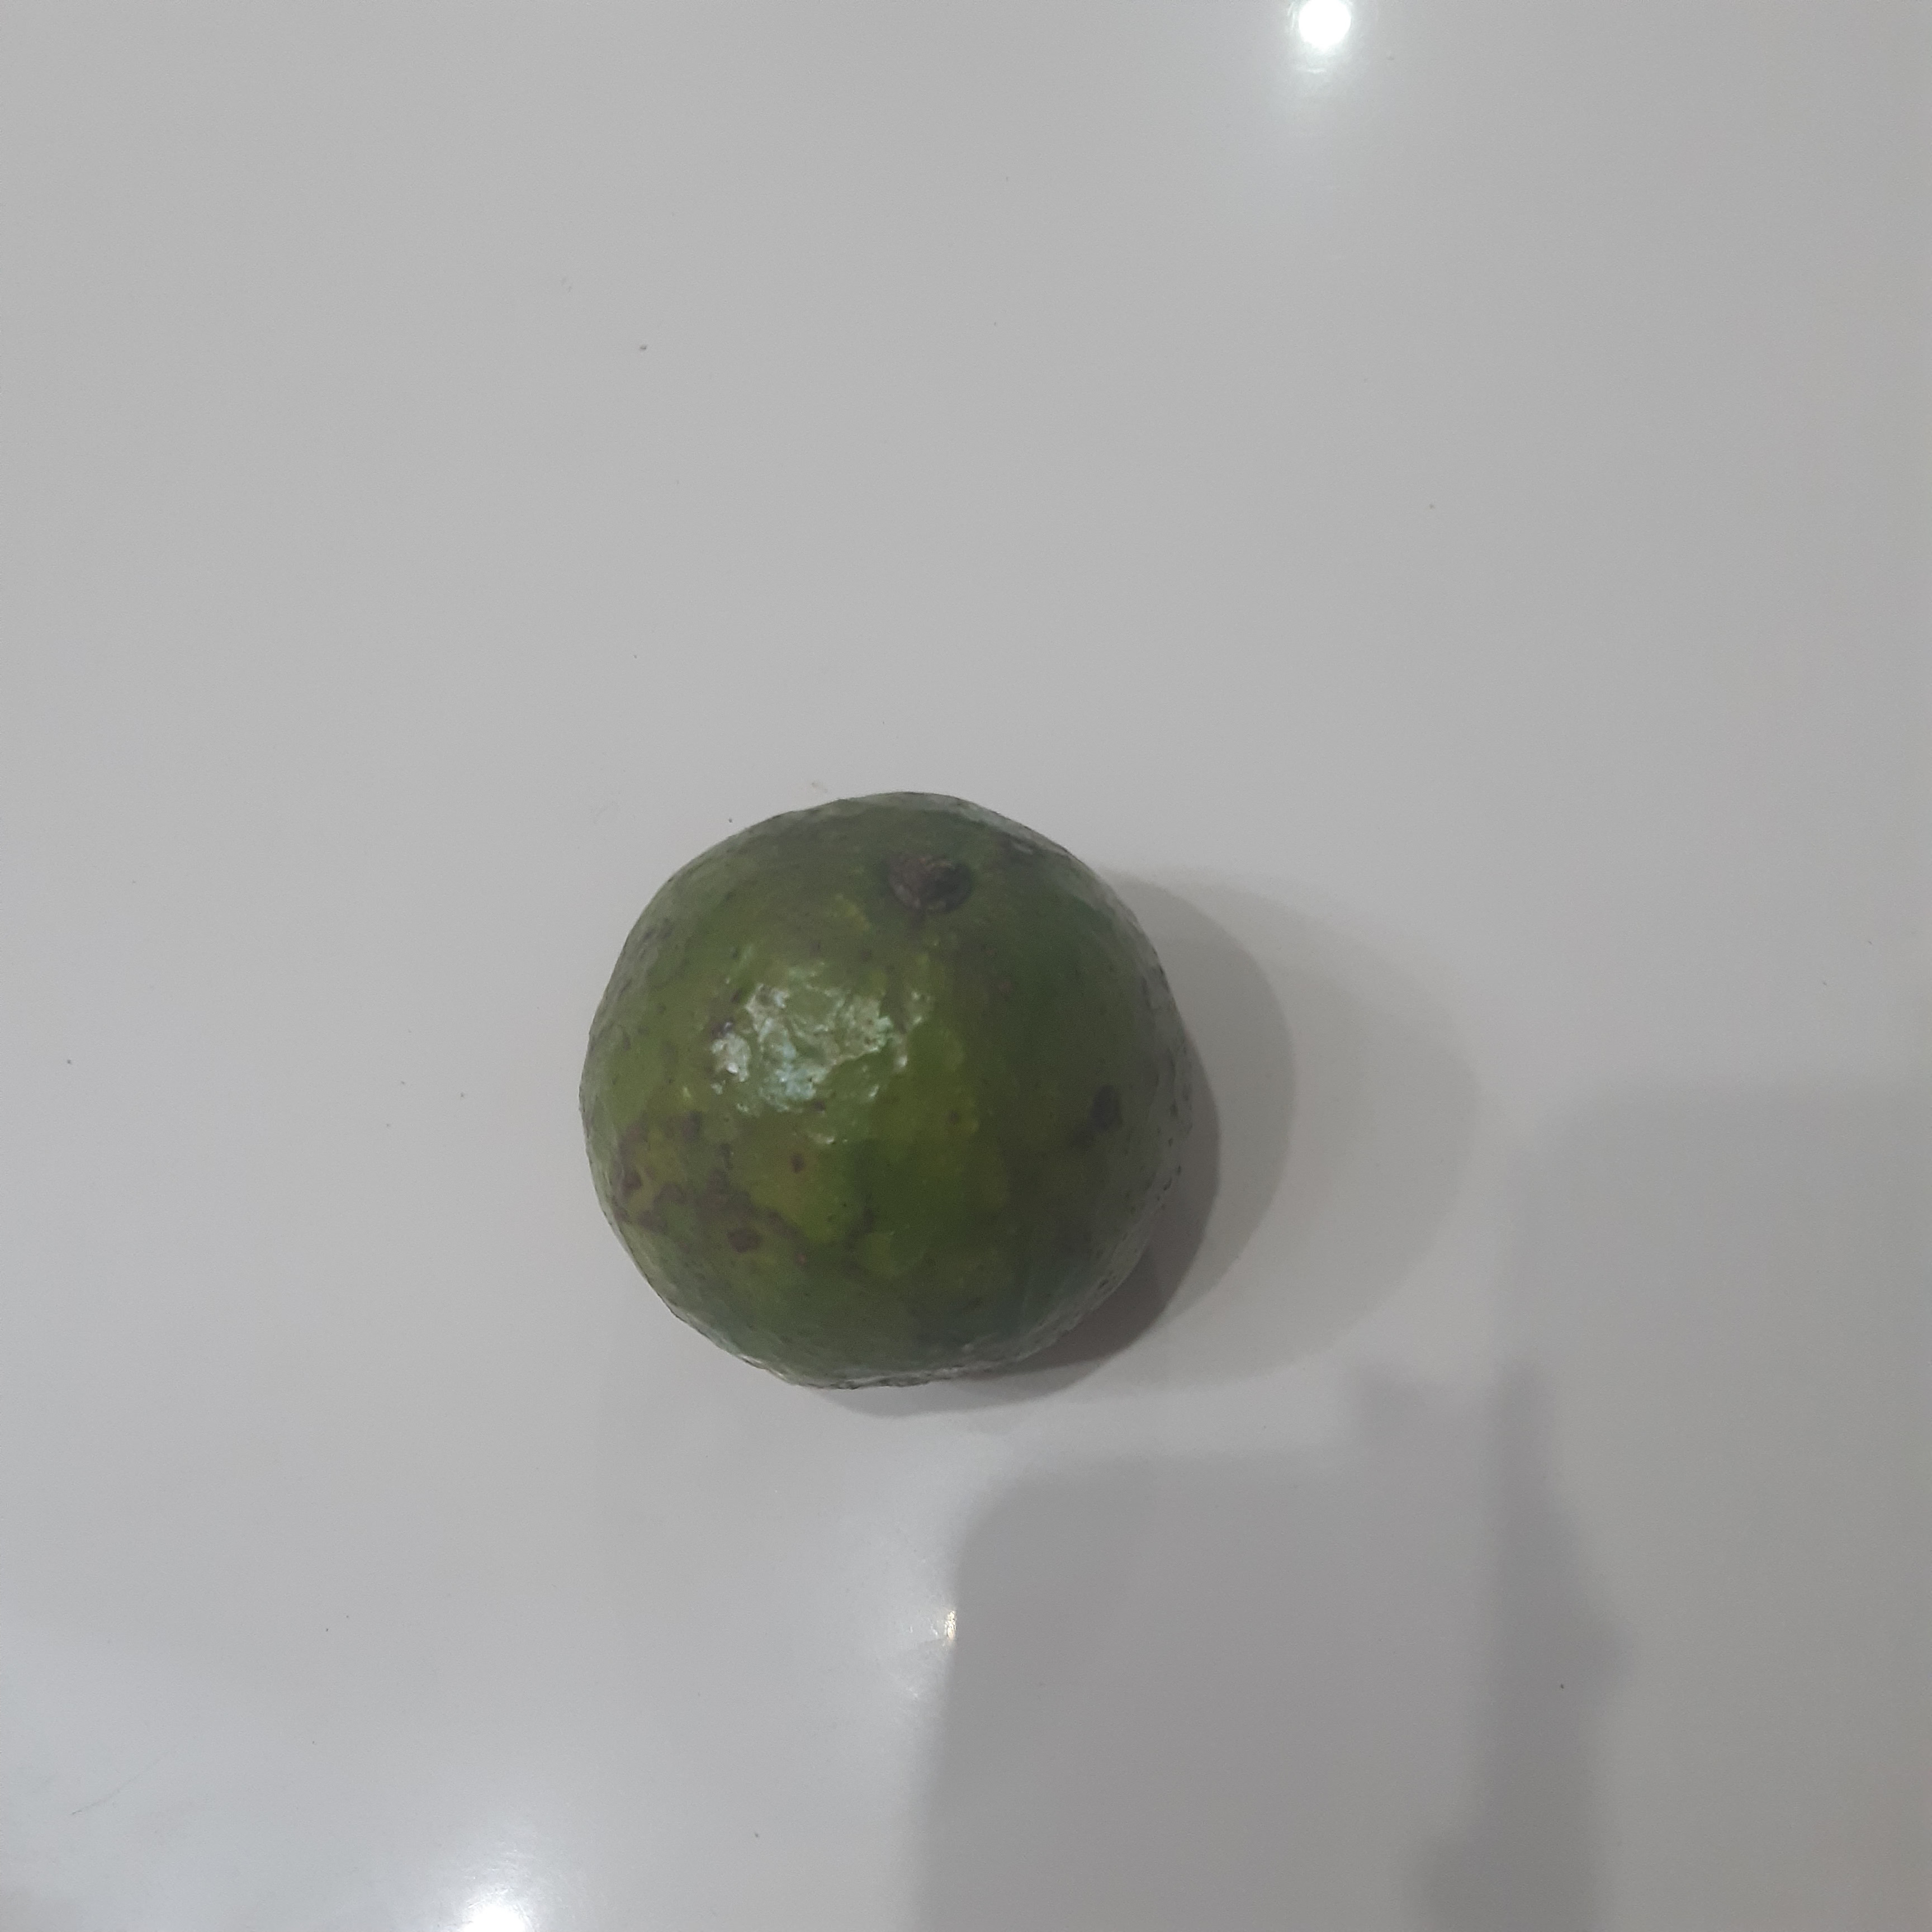Bo: (577, 790, 1186, 1401)
